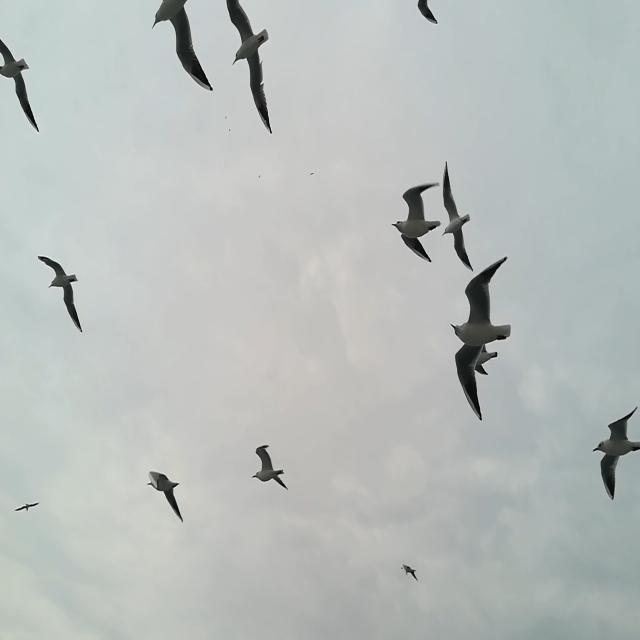bird: (450, 256, 511, 421), (226, 0, 272, 135), (151, 0, 212, 91), (592, 407, 639, 500), (391, 182, 441, 262), (0, 37, 40, 133), (442, 161, 473, 272), (38, 255, 82, 332), (147, 471, 183, 523), (252, 444, 288, 491), (472, 324, 498, 376), (417, 0, 438, 25), (400, 562, 420, 583), (14, 501, 40, 513), (308, 172, 314, 176)
